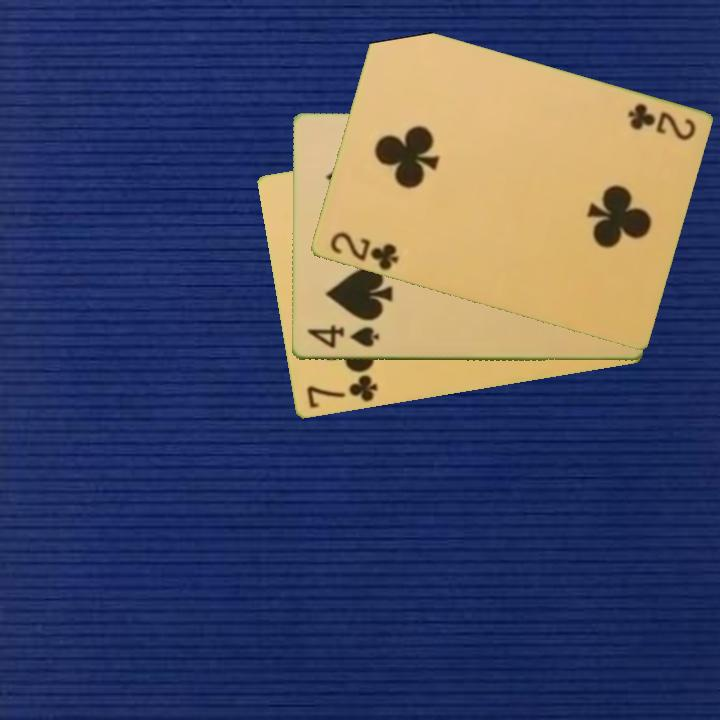2c: (326, 228, 401, 274), (623, 100, 699, 144)
4s: (303, 323, 382, 352)
7c: (302, 371, 380, 412)
